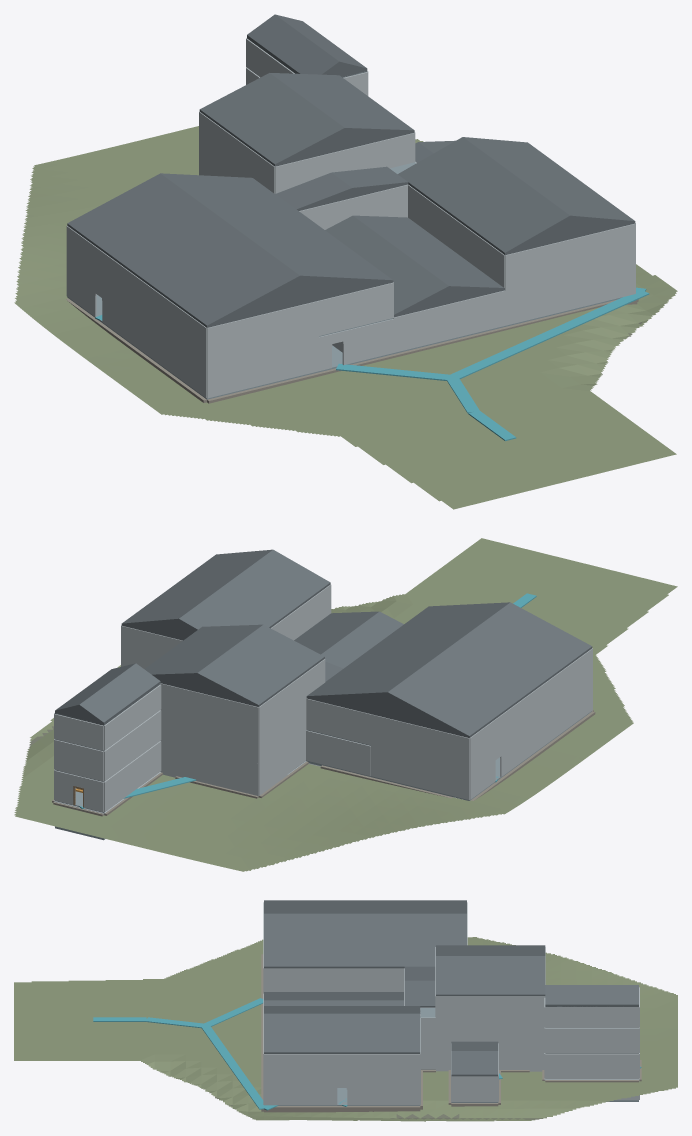
The model's file is authored-bays.glb.
3 views of the same model, one above another, from view 1: azimuth 30°, elevation 25°; view 2: azimuth 150°, elevation 25°; view 3: azimuth 270°, elevation 25° (orthographic). The views are drawn at different scales.
Visible parts, largest first — view 1: Saved editor macroterrain MANSION, main roof west, ballroom roof west, Wall ballroom S, main roof east, attic roof west, ballroom roof east, Wall morning S, east-reception roof west, Wall drawing S, east-reception roof east, attic roof east (+30 smaller); view 2: Saved editor macroterrain MANSION, main roof west, main roof east, ballroom roof west, attic roof west, ballroom roof east, Wall library N, attic roof east, Wall archive N, stair-tower roof west, Wall guest-a N, main gable north (+35 smaller); view 3: Saved editor macroterrain MANSION, main roof east, ballroom roof east, attic roof east, Flat route shell Wall ballroom E, Flat route shell Wall ballroom E.001, Flat route shell Wall gallery E.001, Wall upper-service E, main roof west, MANSION bay wall ('x', 46, 2, 14, 3.6, 7.2) end region0, Wall attic-passage E, MANSION bay wall ('x', 46, 2, 14, 0, 3.6) end region0 (+15 smaller).
Part boxes in pixels (x1=…): Saved editor macroterrain MANSION: x1=14, y1=126, x2=677, y2=509; main roof west: x1=67, y1=173, x2=299, y2=327; ballroom roof west: x1=397, y1=137, x2=570, y2=254; Wall ballroom S: x1=505, y1=223, x2=635, y2=325; main roof east: x1=161, y1=173, x2=393, y2=282; attic roof west: x1=199, y1=73, x2=344, y2=166; ballroom roof east: x1=463, y1=137, x2=635, y2=223; Wall morning S: x1=393, y1=290, x2=505, y2=352; east-reception roof west: x1=325, y1=215, x2=448, y2=316; Wall drawing S: x1=207, y1=336, x2=319, y2=398; east-reception roof east: x1=353, y1=215, x2=504, y2=289; attic roof east: x1=270, y1=73, x2=414, y2=132; Saved editor macroterrain MANSION: x1=14, y1=538, x2=677, y2=871; main roof west: x1=387, y1=602, x2=591, y2=737; main roof east: x1=306, y1=602, x2=509, y2=697; ballroom roof west: x1=179, y1=549, x2=330, y2=630; attic roof west: x1=197, y1=624, x2=324, y2=706; ballroom roof east: x1=121, y1=549, x2=272, y2=624; Wall library N: x1=371, y1=745, x2=469, y2=799; attic roof east: x1=144, y1=624, x2=262, y2=676; Wall archive N: x1=160, y1=683, x2=258, y2=732; stair-tower roof west: x1=79, y1=663, x2=160, y2=724; Wall guest-a N: x1=403, y1=722, x2=469, y2=768; main gable north: x1=307, y1=694, x2=468, y2=737; Saved editor macroterrain MANSION: x1=14, y1=937, x2=677, y2=1121; main roof east: x1=264, y1=913, x2=466, y2=967; ballroom roof east: x1=264, y1=1013, x2=420, y2=1053; attic roof east: x1=436, y1=956, x2=545, y2=996; Flat route shell Wall ballroom E: x1=346, y1=1054, x2=420, y2=1105; Flat route shell Wall ballroom E.001: x1=264, y1=1054, x2=337, y2=1105; Flat route shell Wall gallery E.001: x1=264, y1=968, x2=403, y2=991; Wall upper-service E: x1=421, y1=1017, x2=544, y2=1043; main roof west: x1=264, y1=900, x2=466, y2=913; MANSION bay wall ('x', 46, 2, 14, 3.6, 7.2) end region0: x1=545, y1=1028, x2=638, y2=1053; Wall attic-passage E: x1=436, y1=996, x2=545, y2=1017; MANSION bay wall ('x', 46, 2, 14, 0, 3.6) end region0: x1=545, y1=1054, x2=638, y2=1078.
Size of the model in its own units: 55 by 15.86 by 85.
Materials: 40 (25 with a texture image).
